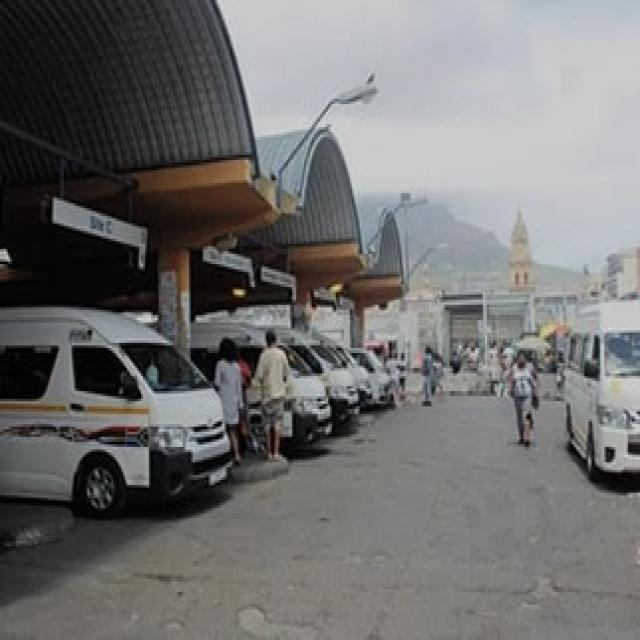MiniBus taxi: (2, 304, 231, 520), (568, 294, 638, 492)
Pedestrians: (253, 330, 294, 462), (506, 340, 546, 447)
